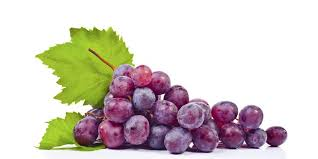Red Grapes: (61, 52, 297, 155)
